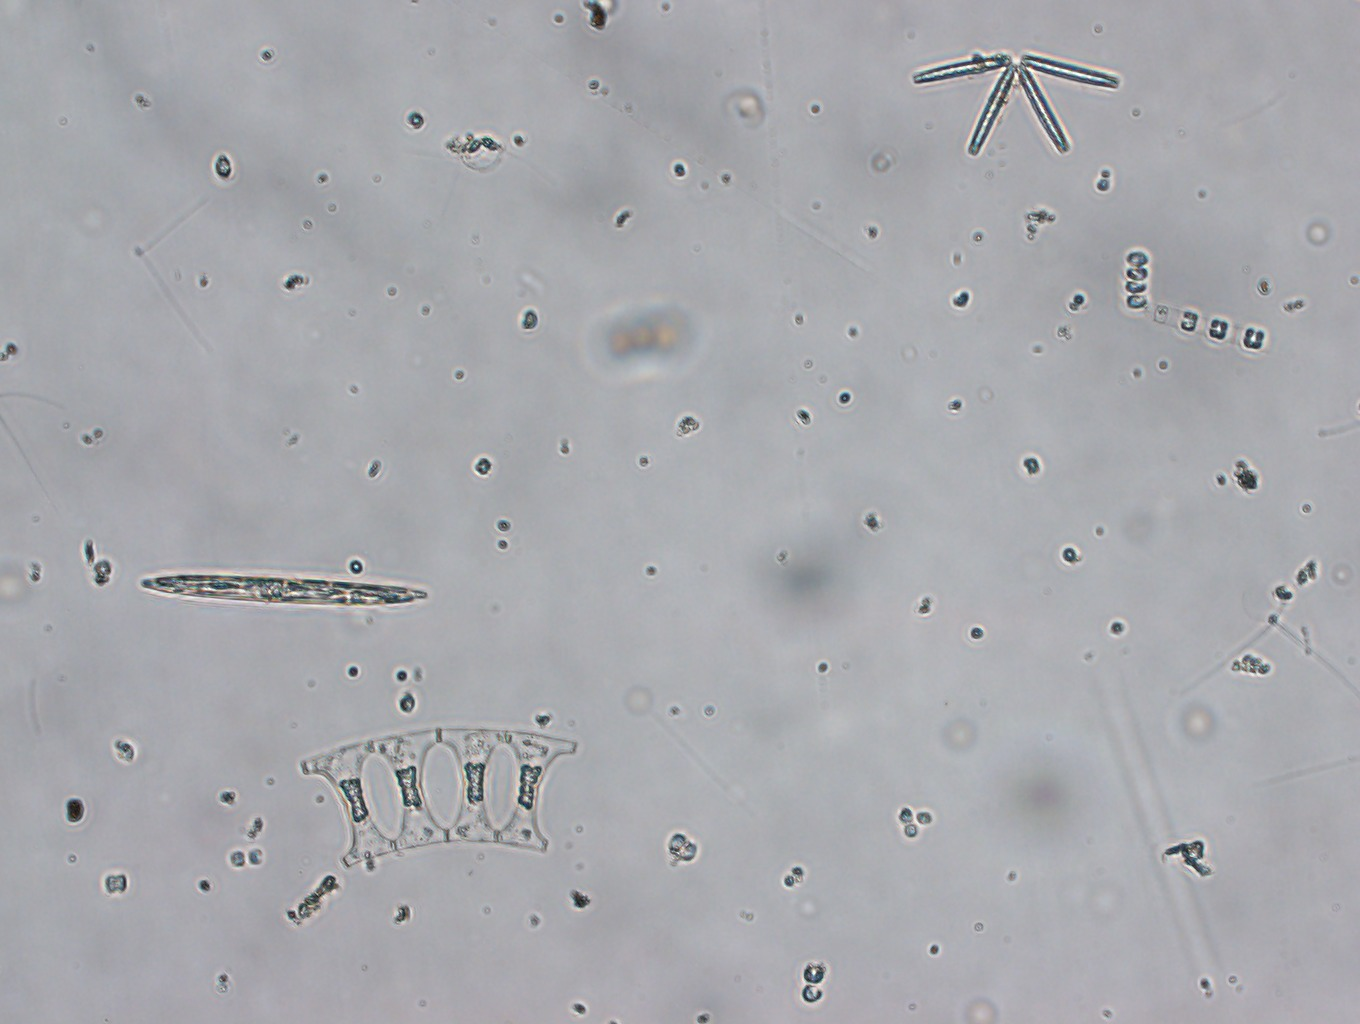eucampia: (298, 725, 577, 868)
navicula: (139, 565, 428, 610)
skeletonema: (1122, 247, 1268, 357)
thalassionema nitzschioides: (913, 49, 1119, 156)
